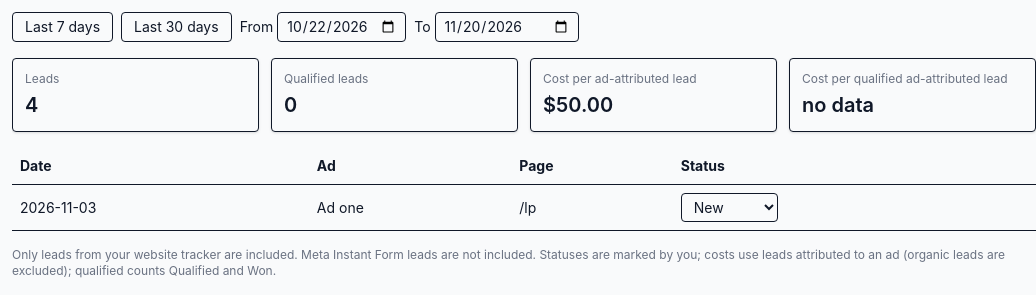
Scenario: views › LeadsView: refreshes the summary after a status change and says ad-attributed
This screenshot has width=1036, height=295.
expect the text "Ad one" is shown: met, box x1=309 y1=184 x2=511 y2=230
expect the text "Cost per ad-attributed lead" is shown: met, box x1=543 y1=71 x2=697 y2=86
Select "Qualified" in the dropdown named "Lead status" at (729, 208), box x1=681 y1=193 x2=778 y2=222
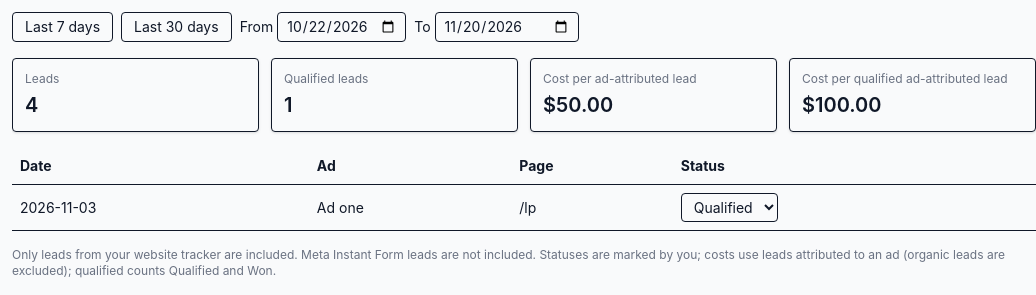
expect the text with test id "leads-qualified" reads "1": met, box x1=284 y1=93 x2=292 y2=117
expect the text with test id "cost-per-qualified" reads "$100.00": met, box x1=802 y1=93 x2=882 y2=117
